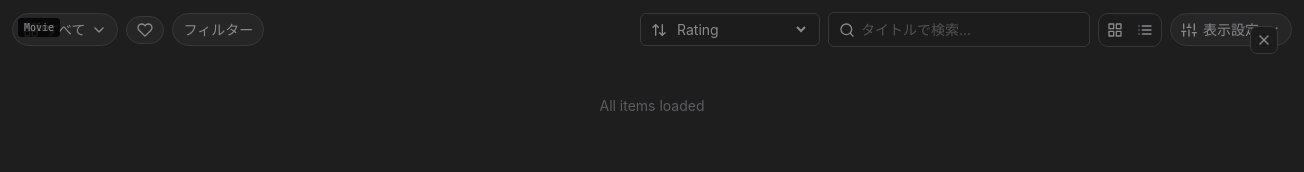
Scenario: MediaListPage › updates media_type in search params when a dropdown option is selected
Click the button with aria-label "メディア種別".
click(65, 30)  # box [12,13,118,46]
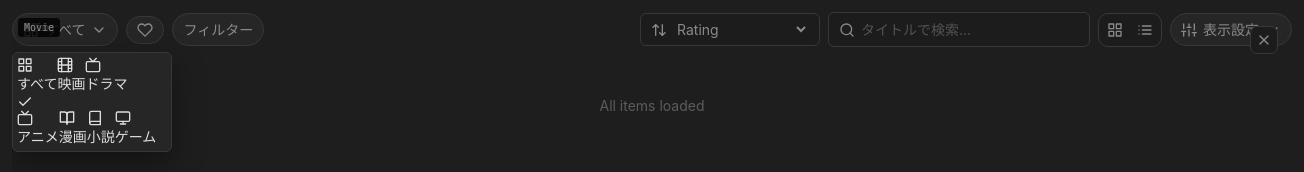
Click the option "映画".
click(72, 76)  # box [58,57,86,94]
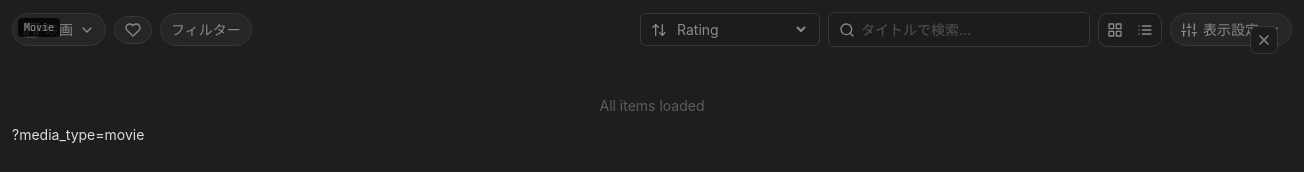
Now the text with test id "location" reads "?media_type=movie", box [12,126,144,143]
